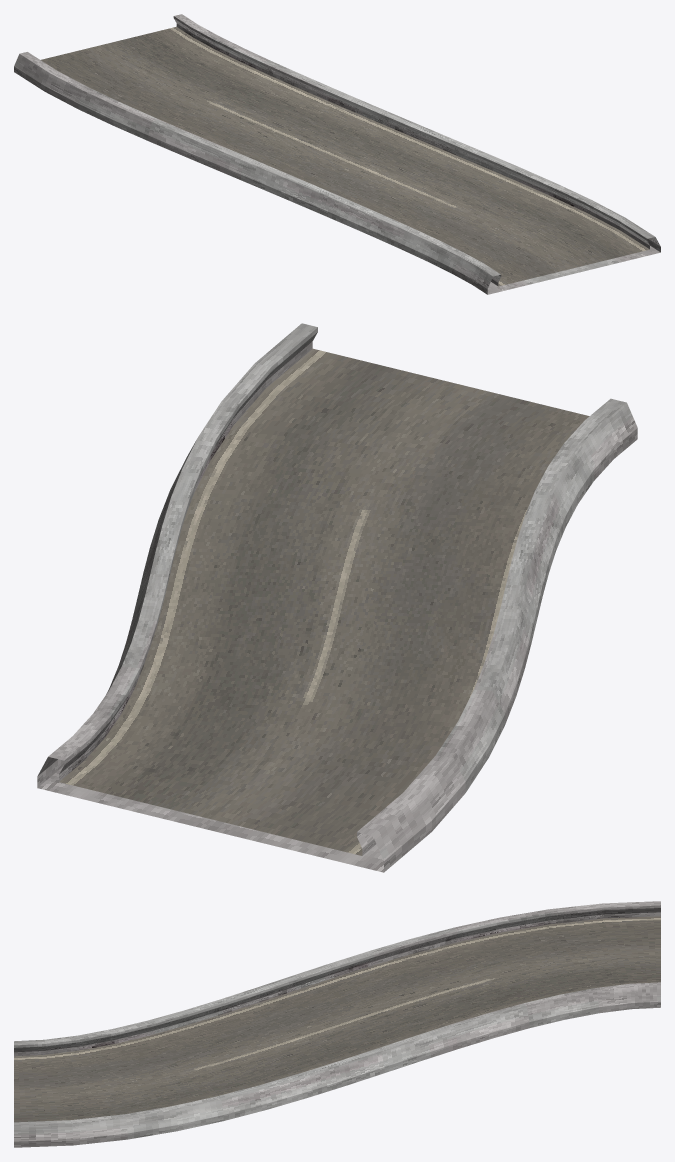
File: road-Chicane-Flat-Flat-Up1-Left1-Size3.glb
3 renders of one model, top to bottom at view 1: azimuth 30°, elevation 25°; view 2: azimuth 150°, elevation 25°; view 3: azimuth 270°, elevation 25°, orthographic. The views are drawn at different scales.
Visible parts, largest first — view 1: road-Chicane-Flat-Flat-Up1-Left1-Size3; view 2: road-Chicane-Flat-Flat-Up1-Left1-Size3; view 3: road-Chicane-Flat-Flat-Up1-Left1-Size3.
Part boxes in pixels (x1,y1,x2,y2): road-Chicane-Flat-Flat-Up1-Left1-Size3: (14,14,660,294); road-Chicane-Flat-Flat-Up1-Left1-Size3: (37,323,637,872); road-Chicane-Flat-Flat-Up1-Left1-Size3: (14,901,660,1147).
Size of the model in its own units: 2 by 0.3438 by 3.
Materials: 2 (2 with a texture image).
